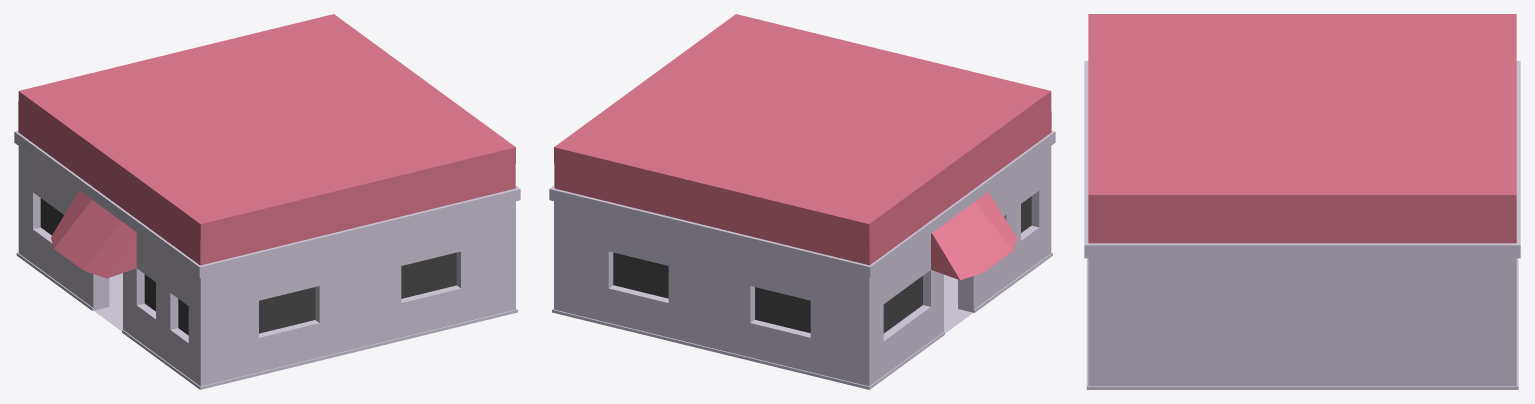
File: small_store.fbx
3 views of the same model, side by side, from view 1: azimuth 30°, elevation 25°; view 2: azimuth 150°, elevation 25°; view 3: azimuth 270°, elevation 25° (orthographic). The views are drawn at different scales.
Parts seen in each view (by area): view 1: main_houseSmall; view 2: main_houseSmall; view 3: main_houseSmall.
Boxes of the visible parts, left/top/right/bottom form: main_houseSmall: left=14, top=14, right=520, bottom=389; main_houseSmall: left=549, top=14, right=1055, bottom=389; main_houseSmall: left=1084, top=14, right=1520, bottom=389.
Bounding box in the file's own units: 9.07 × 4 × 8.15.
